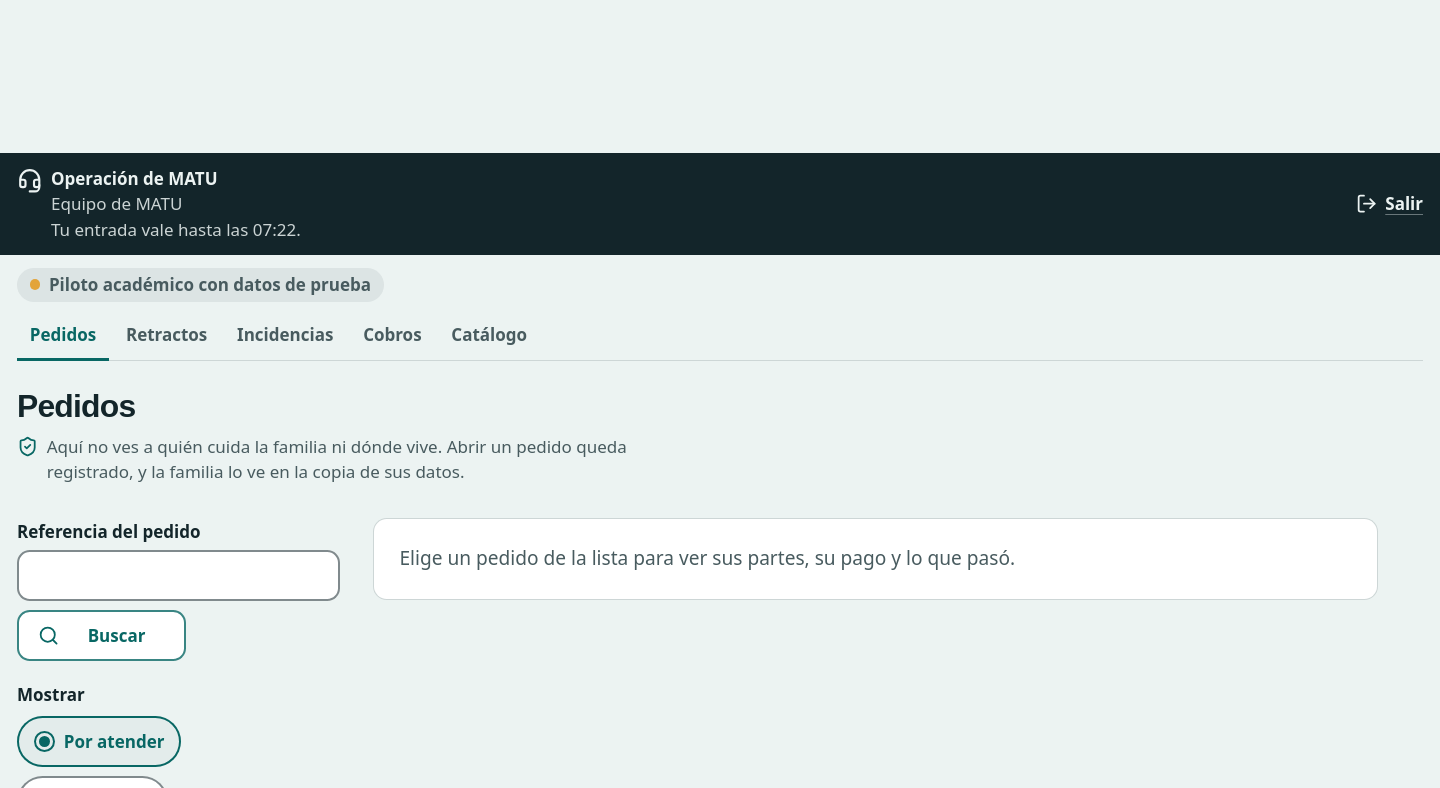
Test: La entrada que vence › «Salir» cierra la entrada y vuelve a Entrar con el aviso de salida
This screenshot has width=1440, height=788.
(page scrolled)
Expected: the heading "Pedidos" is shown, x1=17 y1=388 x2=135 y2=424
Click the button "Salir": (1389, 204) x1=1356 y1=178 x2=1423 y2=230
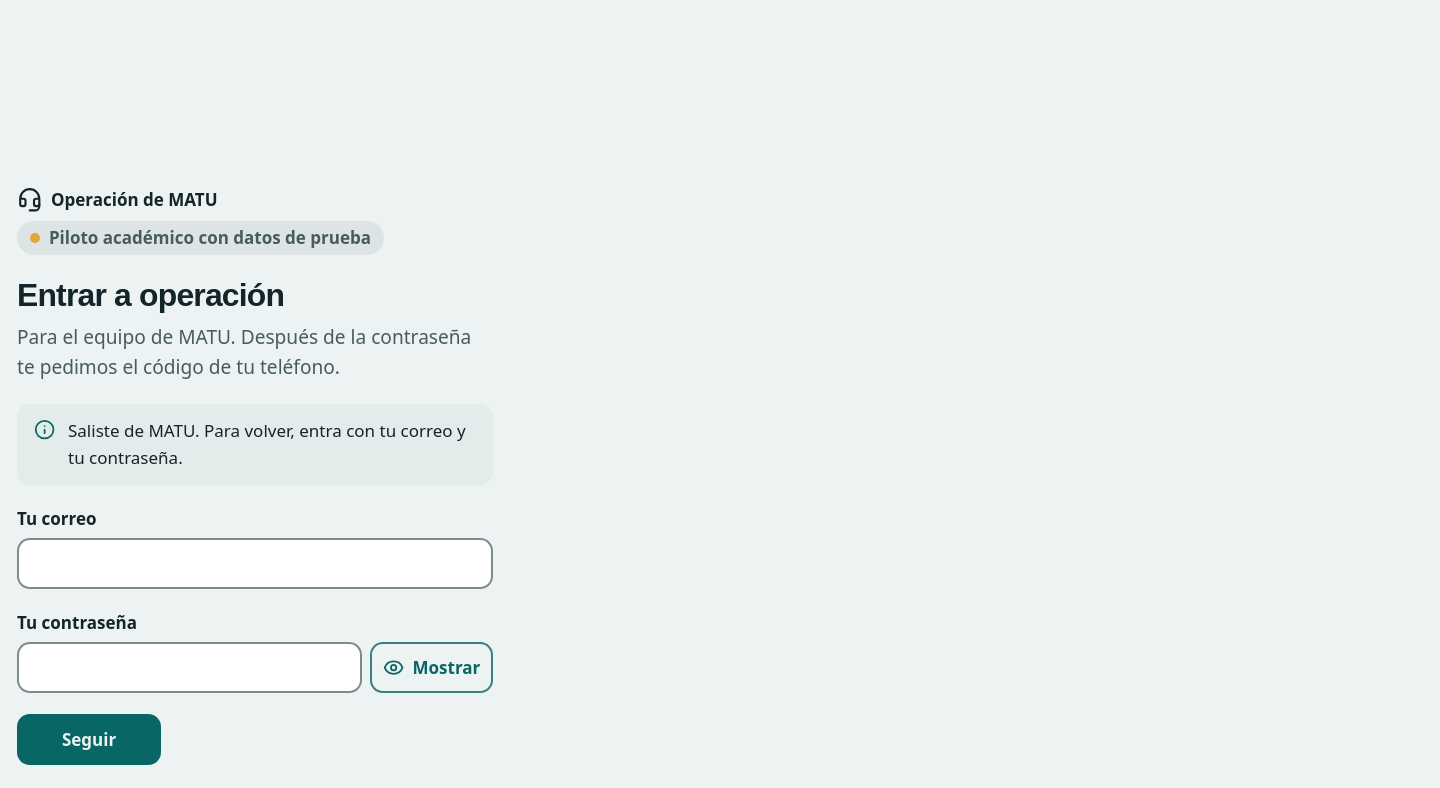
Expected: the heading "Entrar a operación" is shown, x1=17 y1=277 x2=284 y2=313
